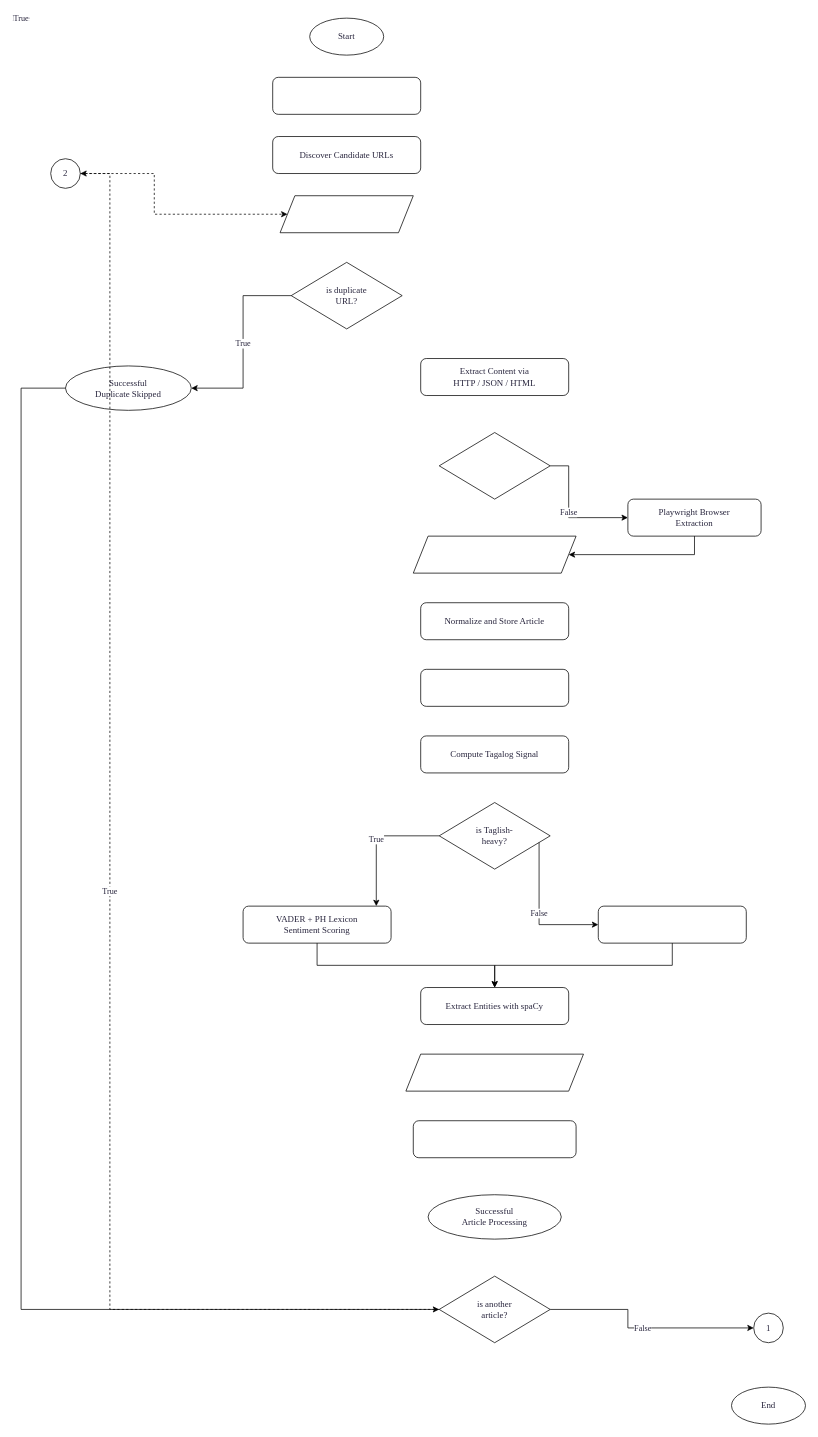
Some shapes in this 818 by 1437 pixel diagram are drawn without their labels. The shapes that lost their labels are listed below. From the top down, each one's box as (x1, y1, x2, y2) in pixels, then its label:
(272, 77, 421, 114): Receive Scheduled Scrape Trigger
(279, 195, 413, 233): Article URL
(438, 432, 550, 499): is content complete?
(413, 535, 576, 573): Article Text and Metadata
(420, 669, 569, 706): Enqueue ML Analysis Task
(598, 905, 746, 943): DistilBERT SST-2 Sentiment Scoring
(405, 1053, 583, 1091): Sentiment Label and Entity Data
(413, 1120, 576, 1158): Upsert Analysis Outputs to Database
